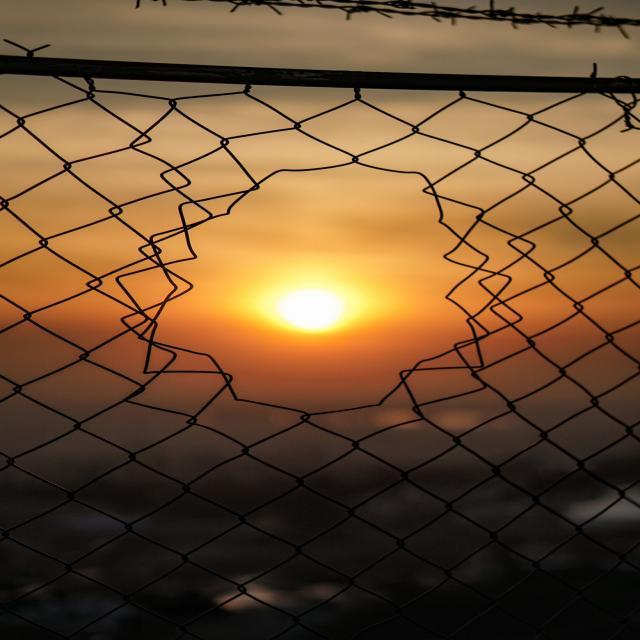fence line: (104, 143, 544, 425)
